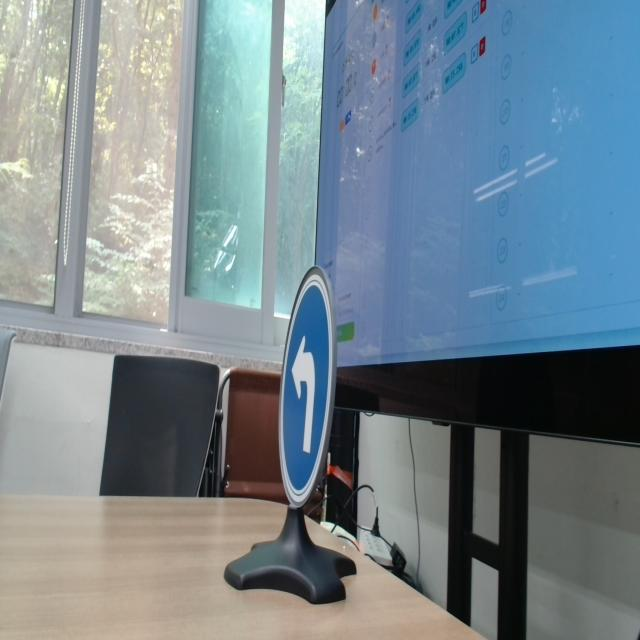left_direction: (266, 248, 339, 512)
